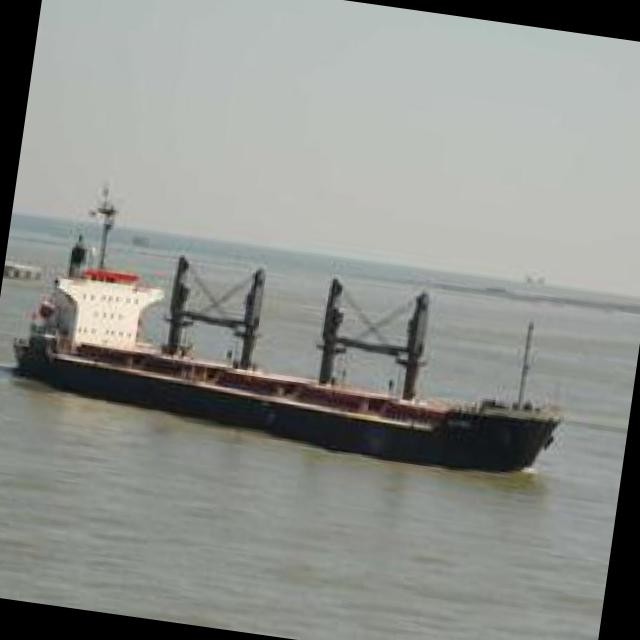boat: (2, 238, 581, 492)
